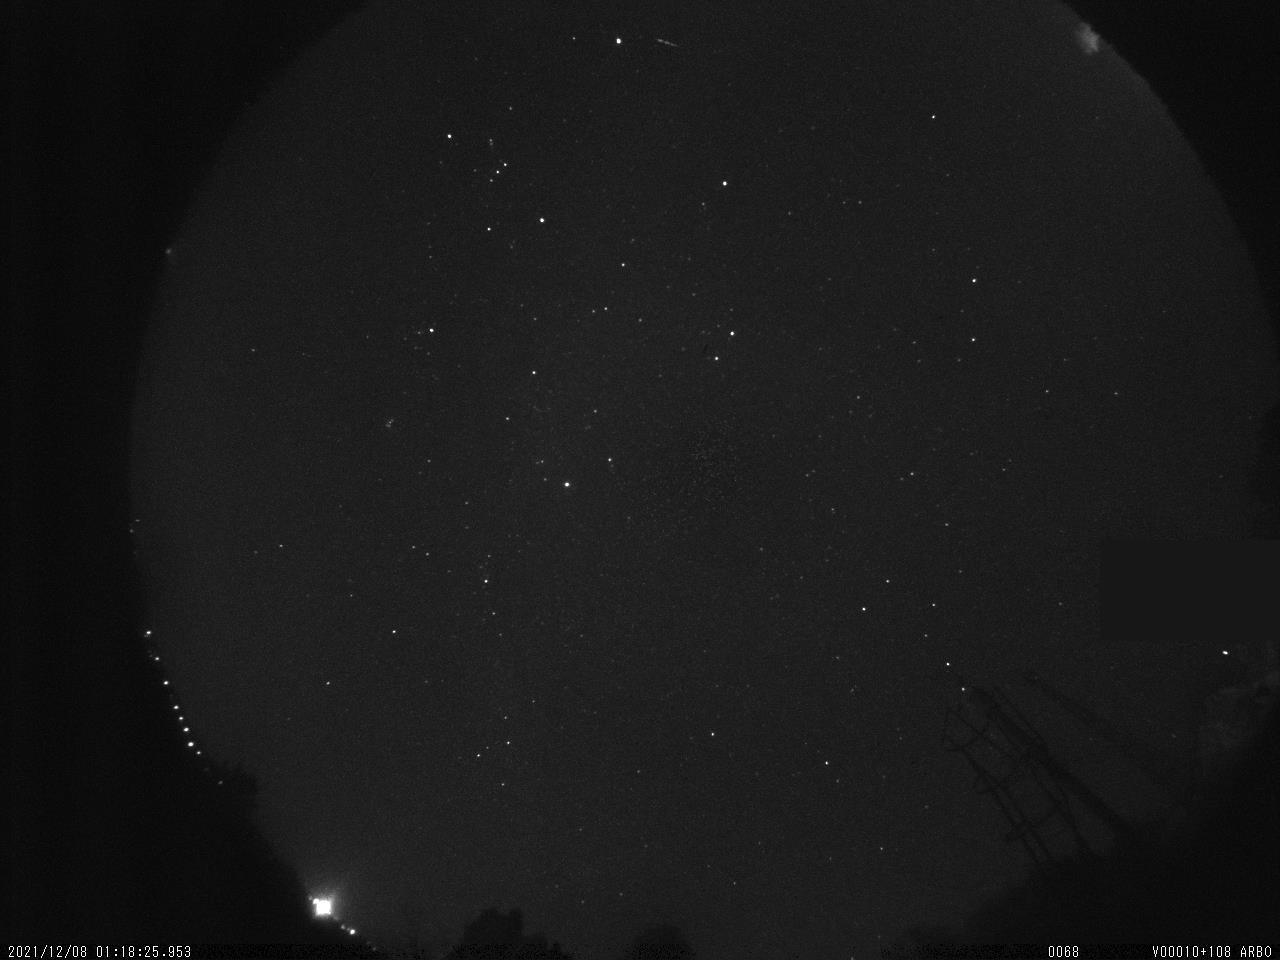meteor: (640, 29, 699, 59)
